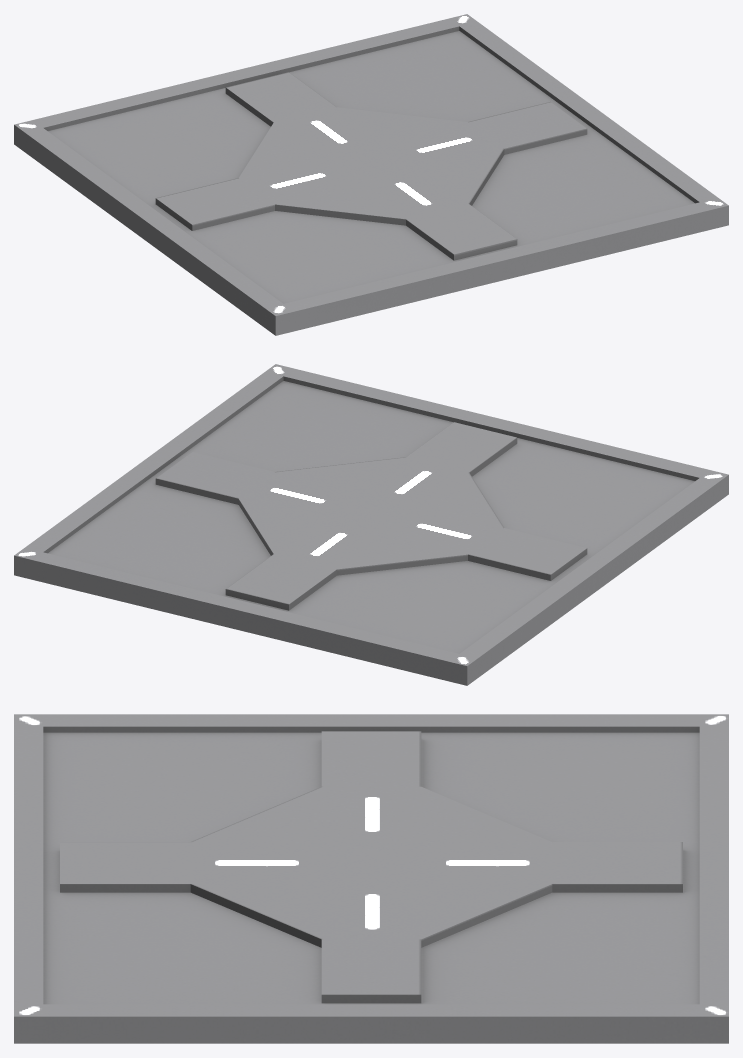
The model's file is FloorConnector.fbx.
3 renders of one model, top to bottom at view 1: azimuth 30°, elevation 25°; view 2: azimuth 150°, elevation 25°; view 3: azimuth 270°, elevation 25°, orthographic. The views are drawn at different scales.
Visible parts, largest first — view 1: FloorConnector; view 2: FloorConnector; view 3: FloorConnector.
Part boxes in pixels (bbox=[...]): FloorConnector: bbox=[14, 14, 728, 335]; FloorConnector: bbox=[14, 364, 728, 685]; FloorConnector: bbox=[14, 714, 728, 1043].
Size of the model in its own units: 240 by 10.91 by 240.
